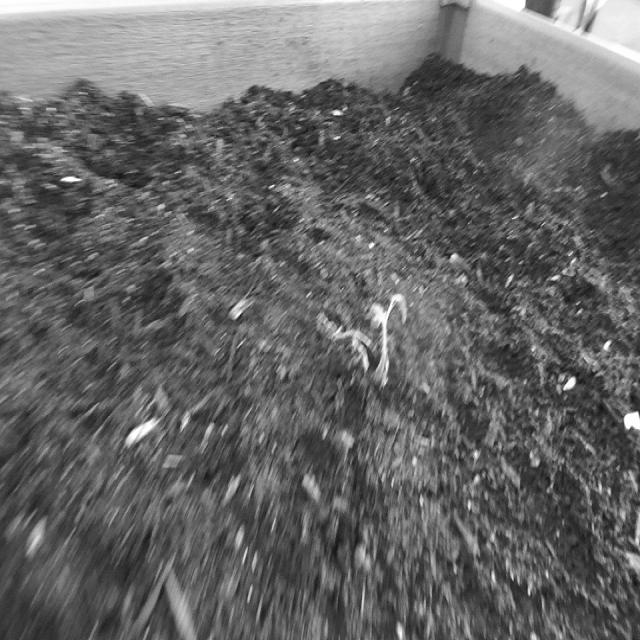Unhealthy: (308, 261, 415, 411)
